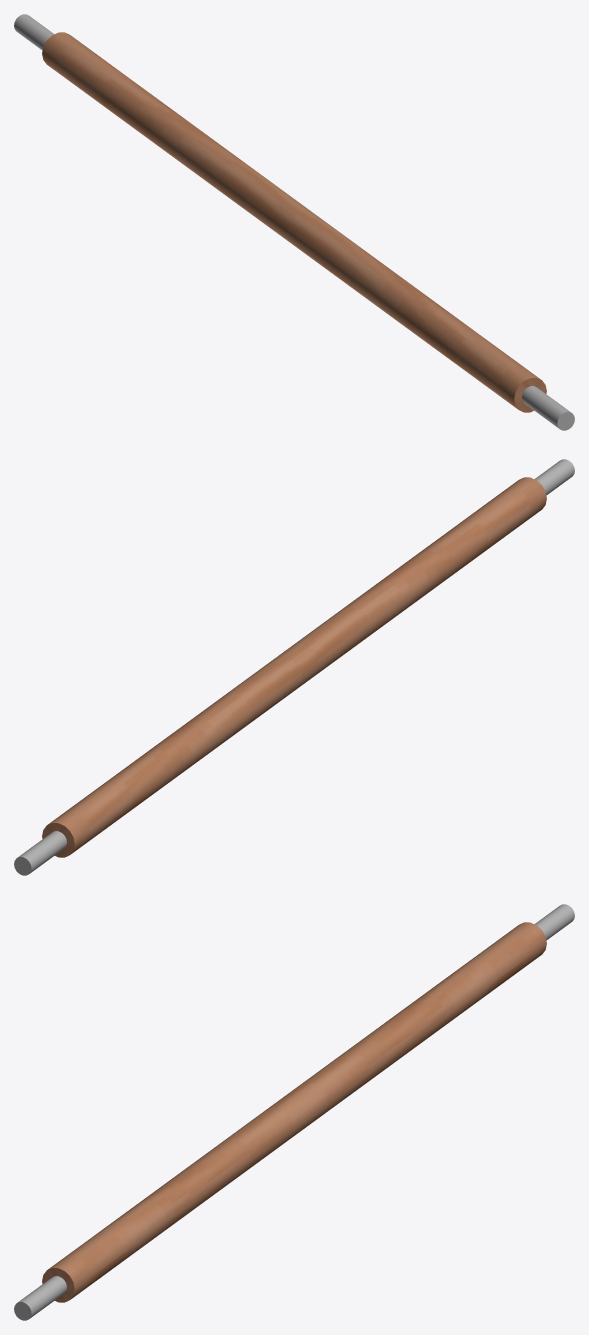
File: Mdl_StickLong.fbx
The picture shows the model from 3 angles, top to bottom: view 1: azimuth 30°, elevation 25°; view 2: azimuth 150°, elevation 25°; view 3: azimuth 330°, elevation 25°; orthographic projection.
Visible parts, largest first — view 1: stick long; view 2: stick long; view 3: stick long.
Part boxes in pixels (box(x1,y1,x2,y2)): stick long: box(14, 14, 574, 430); stick long: box(14, 459, 574, 875); stick long: box(14, 904, 574, 1320).
Size of the model in its own units: 7.69 by 7.69 by 221.
Materials: 2 (1 with a texture image).
